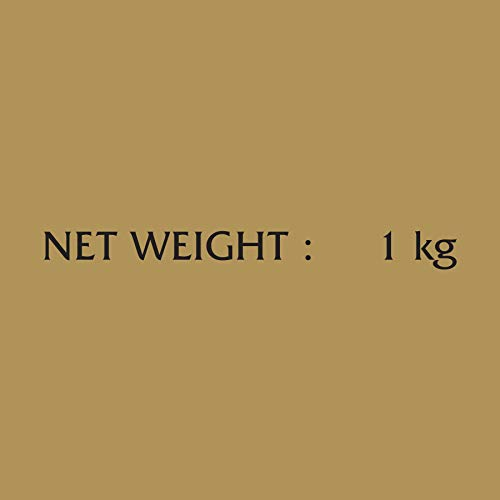1kg: (384, 231, 457, 270)
NET: (44, 232, 117, 260)
WEIGHT:: (130, 231, 311, 260)
